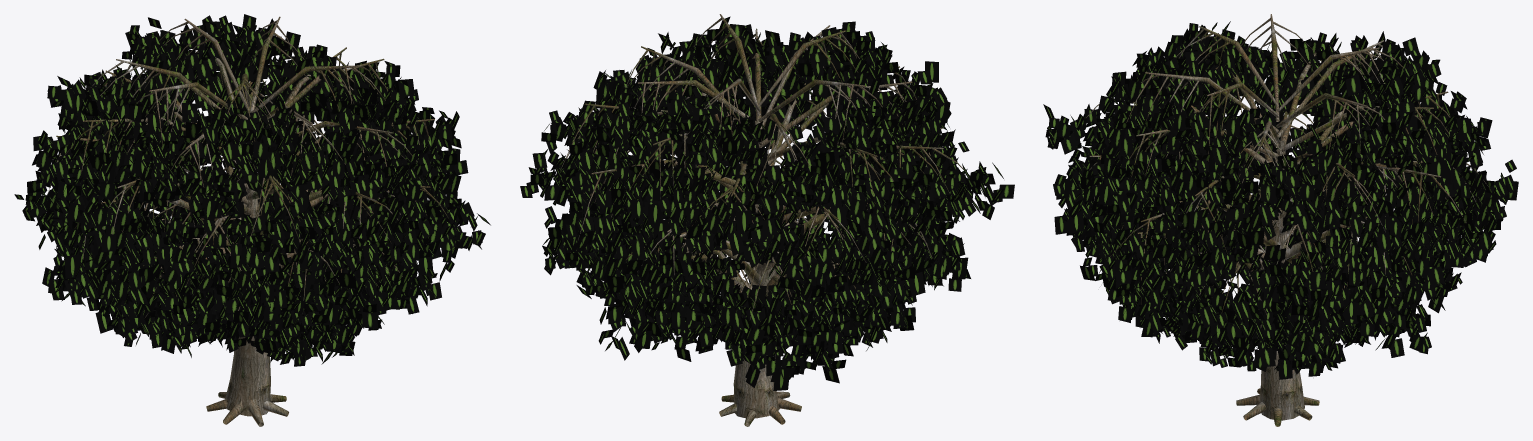
File: weeping-willow.glb
3 renders of one model, left to right at view 1: azimuth 30°, elevation 25°; view 2: azimuth 150°, elevation 25°; view 3: azimuth 270°, elevation 25°, orthographic.
Parts seen in each view (by area): view 1: weeping-willow; view 2: weeping-willow; view 3: weeping-willow.
Part boxes in pixels (x1,y1,x2,y2): weeping-willow: (14,14,490,426); weeping-willow: (520,14,1014,426); weeping-willow: (1043,14,1518,426).
Size of the model in its own units: 14.76 by 12.43 by 14.78.
Materials: 2 (2 with a texture image).
